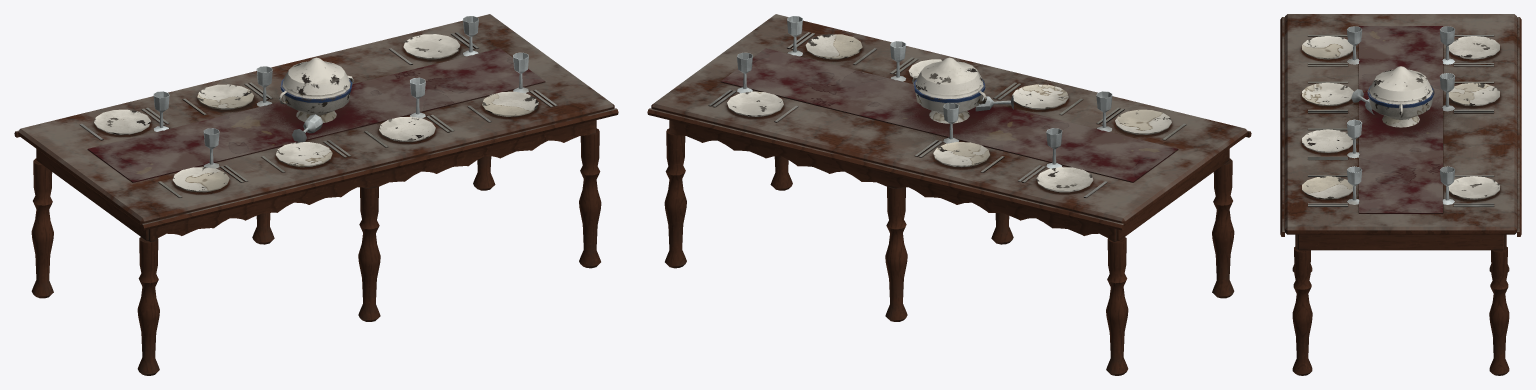
File: DiningTable.fbx
3 views of the same model, side by side, from view 1: azimuth 30°, elevation 25°; view 2: azimuth 150°, elevation 25°; view 3: azimuth 270°, elevation 25° (orthographic). The views are drawn at different scales.
Visible parts, largest first — view 1: DiningTable; view 2: DiningTable; view 3: DiningTable.
Boxes of the visible parts, x1,y1,x2,y2 form: DiningTable: (14,14,618,375); DiningTable: (647,14,1251,375); DiningTable: (1280,14,1521,375).
Size of the model in its own units: 6.9 by 3.09 by 3.27.
Materials: 1 (1 with a texture image).
